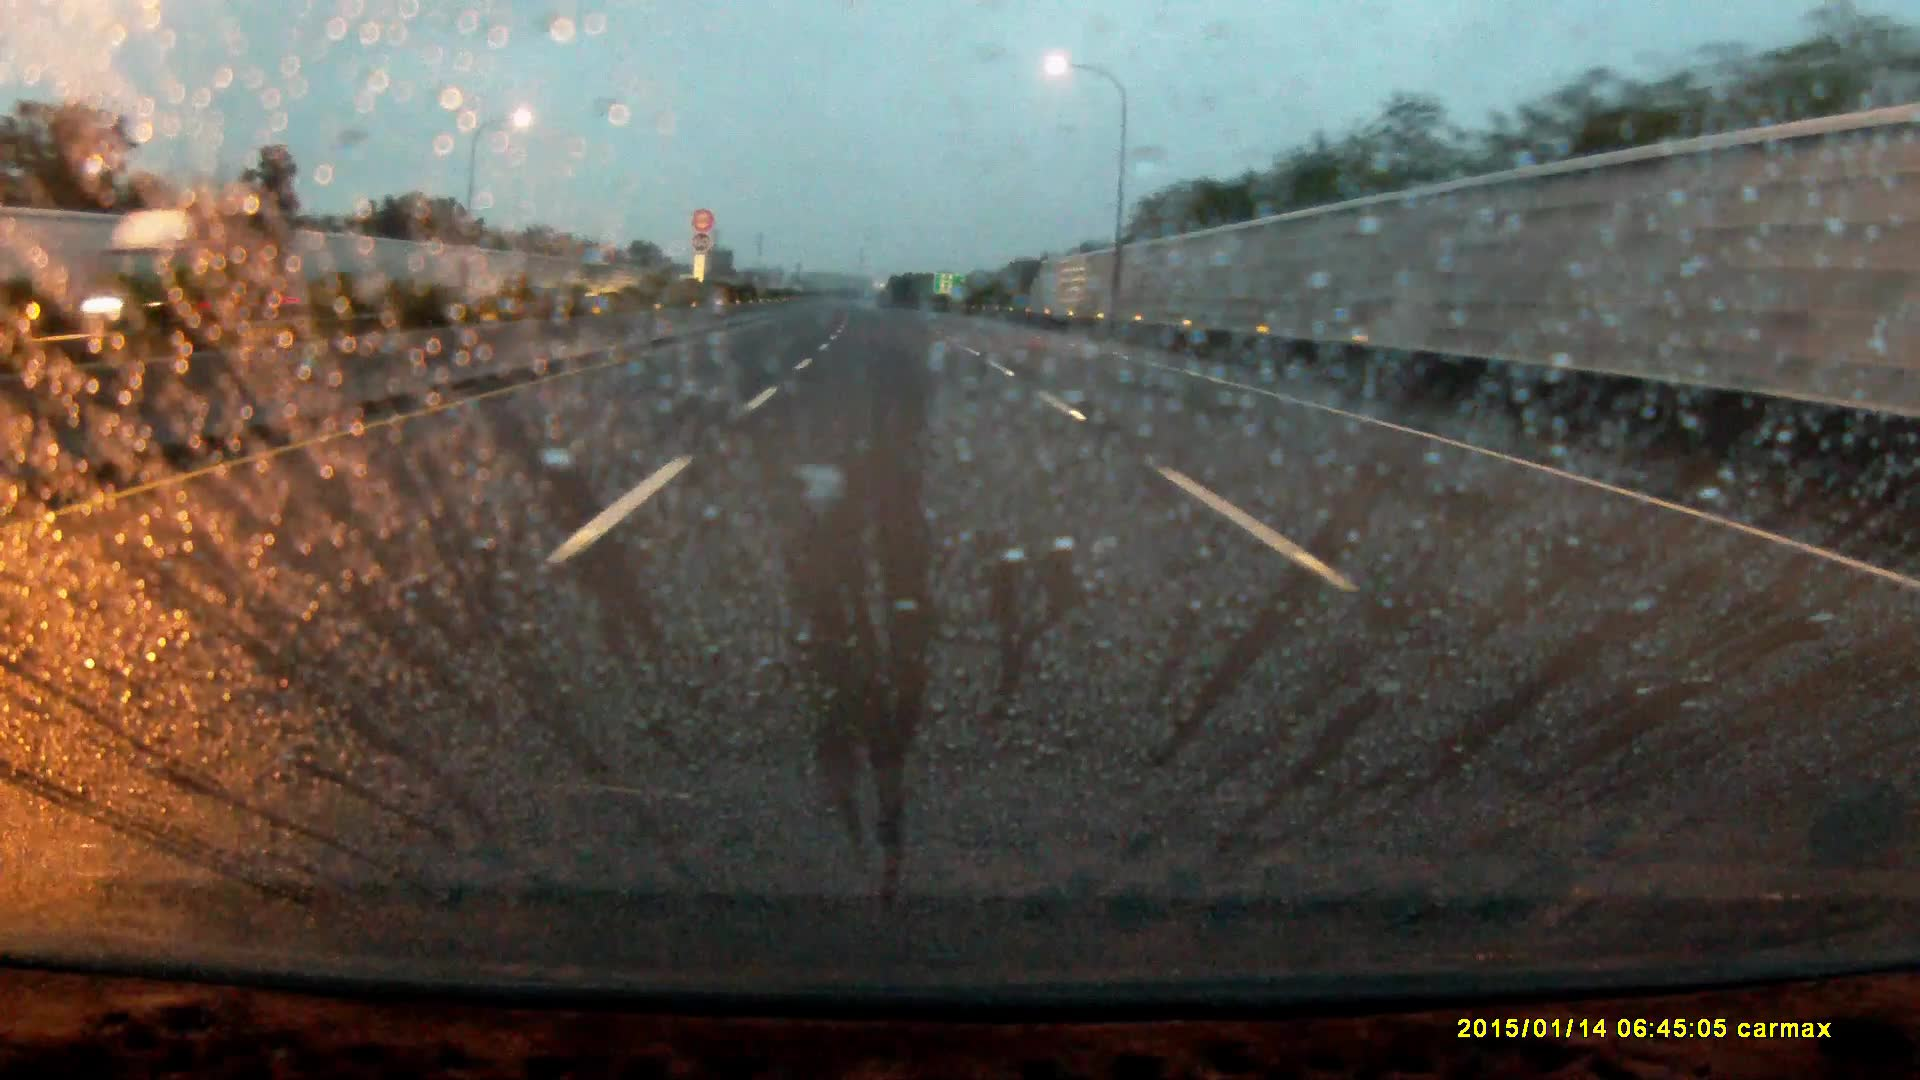vehicle: (86, 208, 287, 334)
